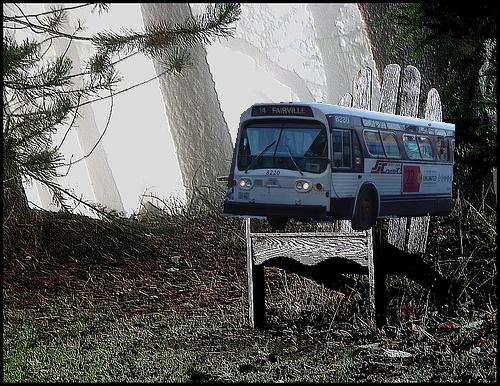tampered: (222, 103, 455, 230)
